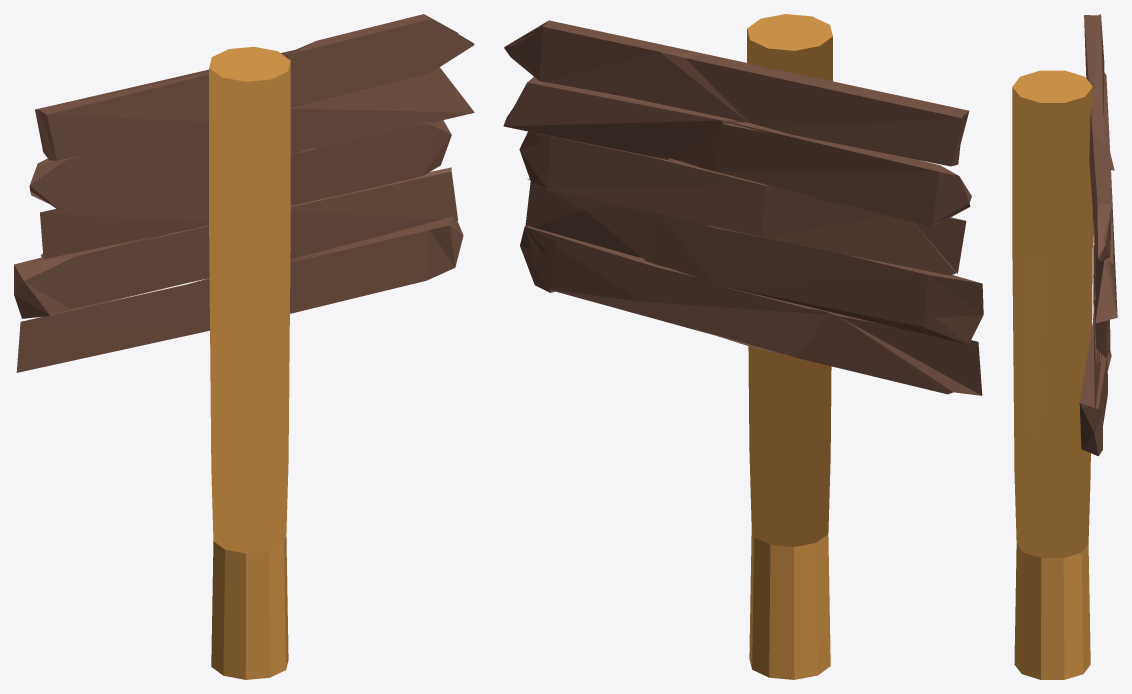
3 views of the same model, side by side, from view 1: azimuth 30°, elevation 25°; view 2: azimuth 150°, elevation 25°; view 3: azimuth 270°, elevation 25° (orthographic). The views are drawn at different scales.
Visible parts, largest first — view 1: Sign; view 2: Sign; view 3: Sign.
Boxes of the visible parts, left/top/right/bottom form: Sign: left=14, top=14, right=474, bottom=679; Sign: left=503, top=14, right=983, bottom=679; Sign: left=1012, top=14, right=1117, bottom=679.
Bounding box in the file's own units: 2.76 × 3.45 × 0.5694.
